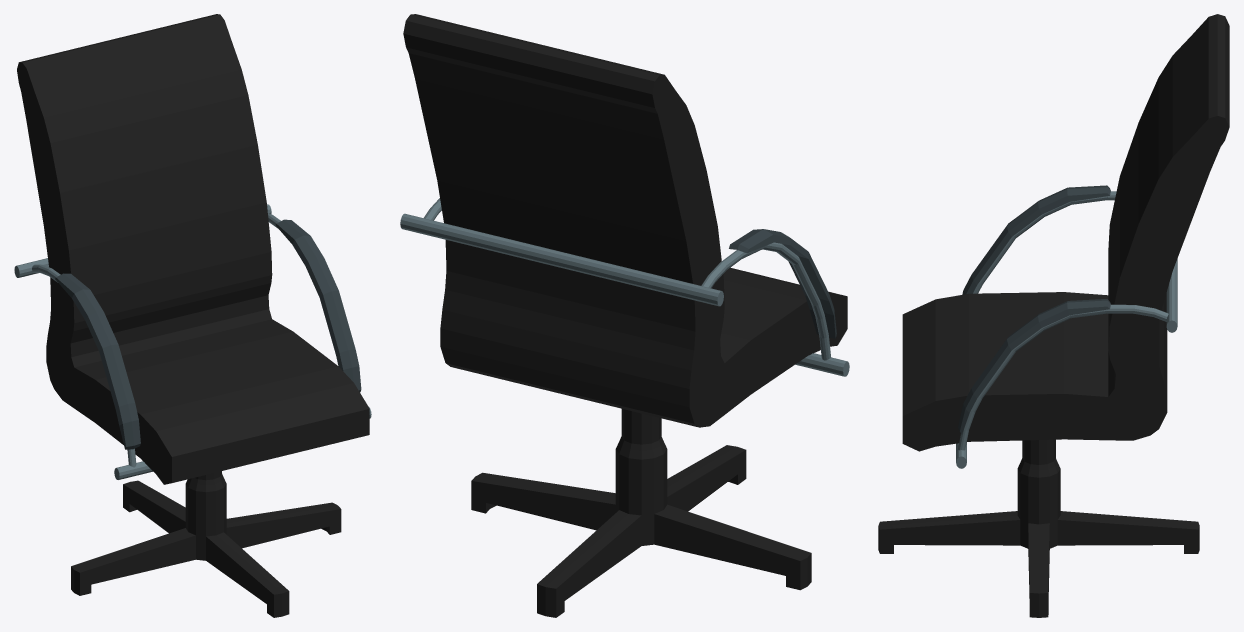
The model's file is ChairV1.fbx.
3 renders of one model, left to right at view 1: azimuth 30°, elevation 25°; view 2: azimuth 150°, elevation 25°; view 3: azimuth 270°, elevation 25°, orthographic. The views are drawn at different scales.
Visible parts, largest first — view 1: ChairV1_Top, ChairV1; view 2: ChairV1_Top, ChairV1; view 3: ChairV1_Top, ChairV1.
Part boxes in pixels (<box>): ChairV1_Top: <box>14,14,371,484</box>; ChairV1: <box>71,471,341,617</box>; ChairV1_Top: <box>400,14,849,427</box>; ChairV1: <box>471,409,811,617</box>; ChairV1_Top: <box>902,14,1229,468</box>; ChairV1: <box>878,439,1199,617</box>.
Size of the model in its own units: 72 by 120 by 78.69.
